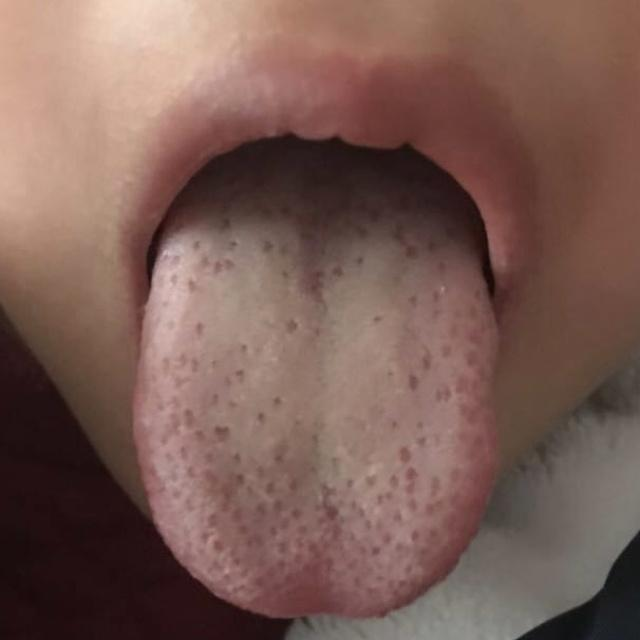baitaishe: (133, 178, 499, 621)
